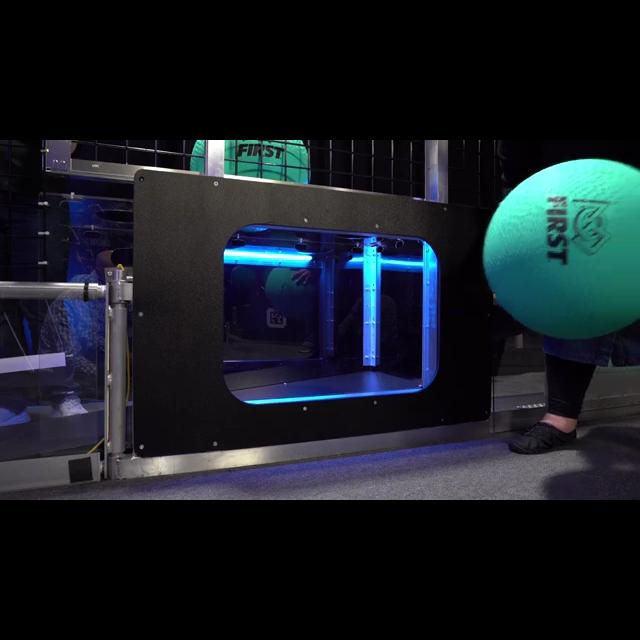ALGAE: (482, 156, 638, 340), (189, 140, 311, 184)
